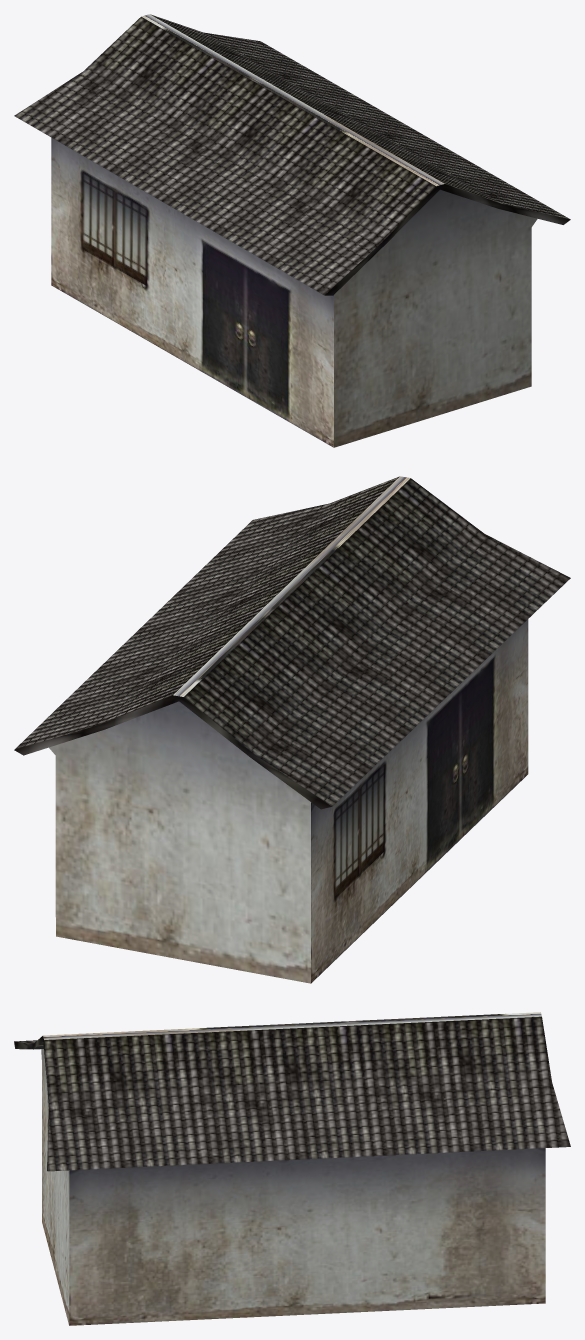
The model's file is ian1567.obj.
3 renders of one model, top to bottom at view 1: azimuth 30°, elevation 25°; view 2: azimuth 150°, elevation 25°; view 3: azimuth 270°, elevation 25°, orthographic. The views are drawn at different scales.
Parts seen in each view (by area): view 1: ian1567; view 2: ian1567; view 3: ian1567.
Part boxes in pixels (<box>): ian1567: <box>14,14,570,447</box>; ian1567: <box>14,476,570,983</box>; ian1567: <box>14,1012,570,1325</box>.
Size of the model in its own units: 138 by 99.21 by 211.
